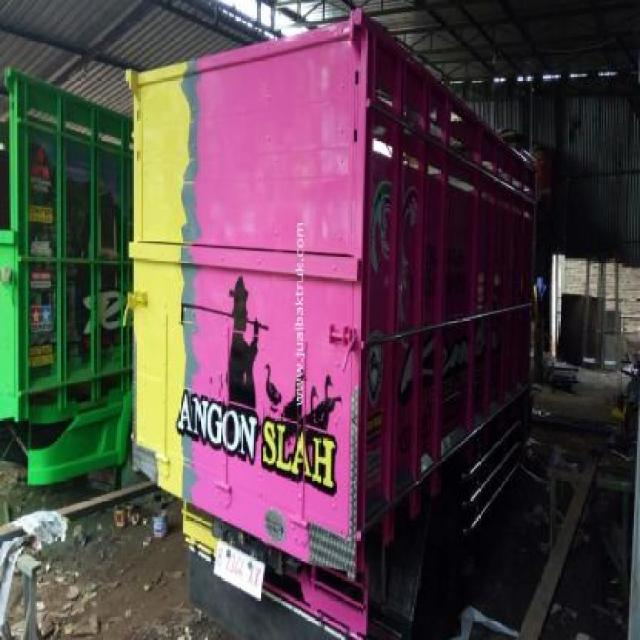truck: (124, 36, 541, 640)
